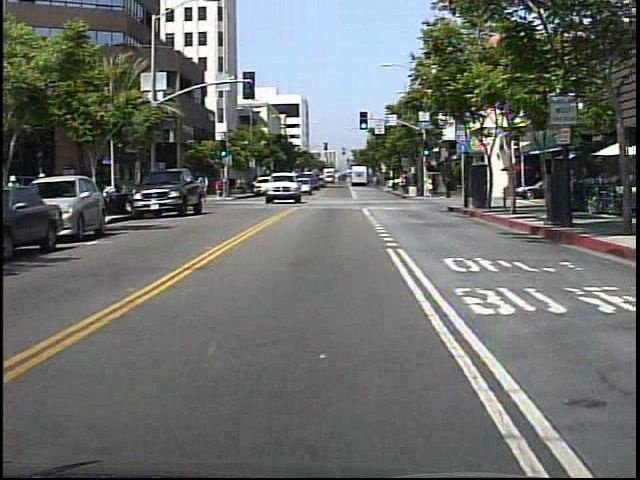person: (195, 171, 216, 202), (443, 171, 458, 203), (423, 177, 436, 200), (213, 177, 224, 200)
